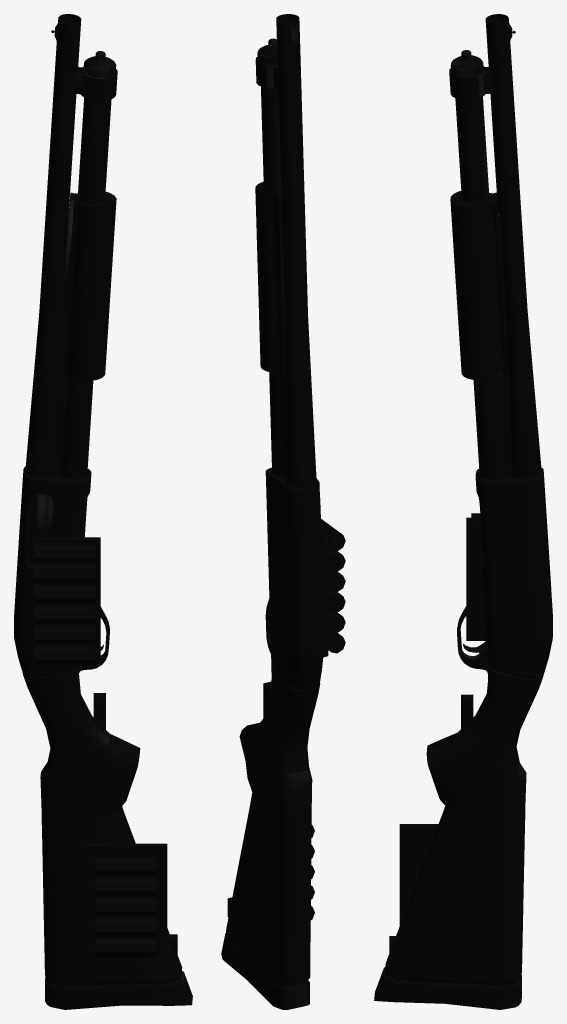
Rendered from Rem870__ShellHolder_Butt__Sidesaddle_Shotgun__Stock_870_Folding.fbx.
3 views of the same model, side by side, from view 1: azimuth 90°, elevation 25°; view 2: azimuth 210°, elevation 25°; view 3: azimuth 270°, elevation 25° (orthographic).
Parts seen in each view (by area): view 1: asset_Rem870.001; view 2: asset_Rem870.001; view 3: asset_Rem870.001.
Part boxes in pixels (x1,y1,x2,y2): asset_Rem870.001: (14, 14, 192, 1009); asset_Rem870.001: (221, 14, 345, 1009); asset_Rem870.001: (374, 14, 552, 1009).
Size of the model in its own units: 0.0389 by 0.636 by 0.1048.
